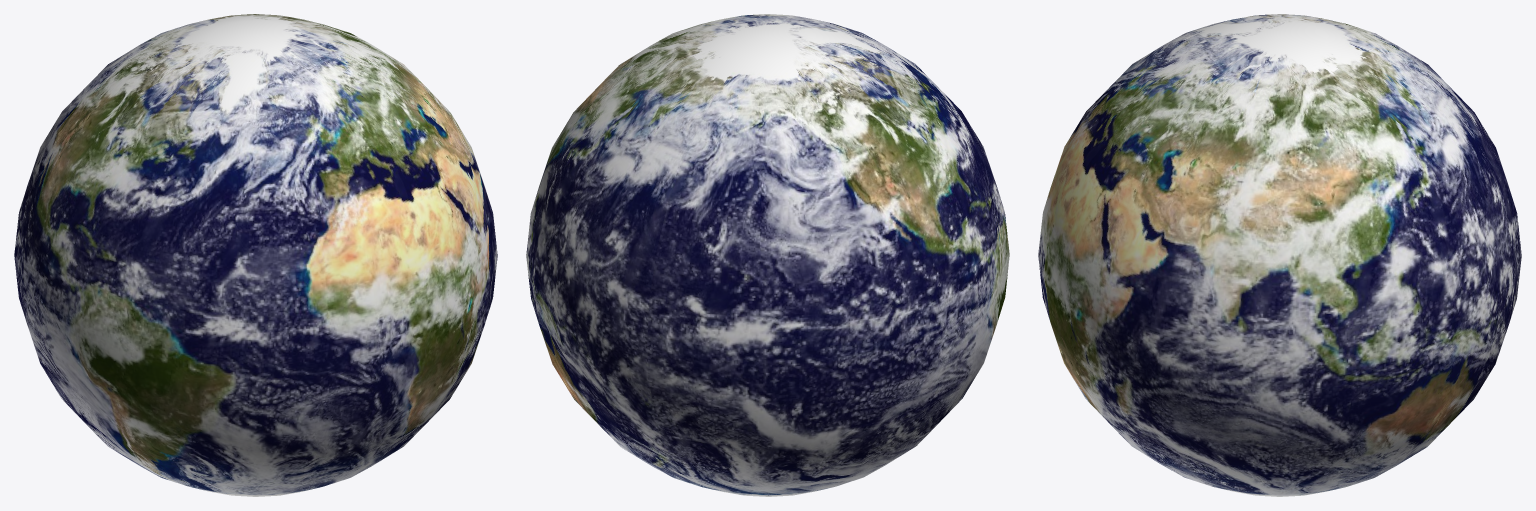
Rendered from earth.dae.
The picture shows the model from 3 angles, left to right: view 1: azimuth 30°, elevation 25°; view 2: azimuth 150°, elevation 25°; view 3: azimuth 270°, elevation 25°; orthographic projection.
Visible parts, largest first — view 1: earth_4; view 2: earth_4; view 3: earth_4.
Part boxes in pixels (x1=…): earth_4: x1=14, y1=14, x2=497, y2=496; earth_4: x1=526, y1=14, x2=1009, y2=496; earth_4: x1=1038, y1=14, x2=1521, y2=496.
Size of the model in its own units: 67.51 by 67.51 by 67.51.
1 material, 1 textured.
